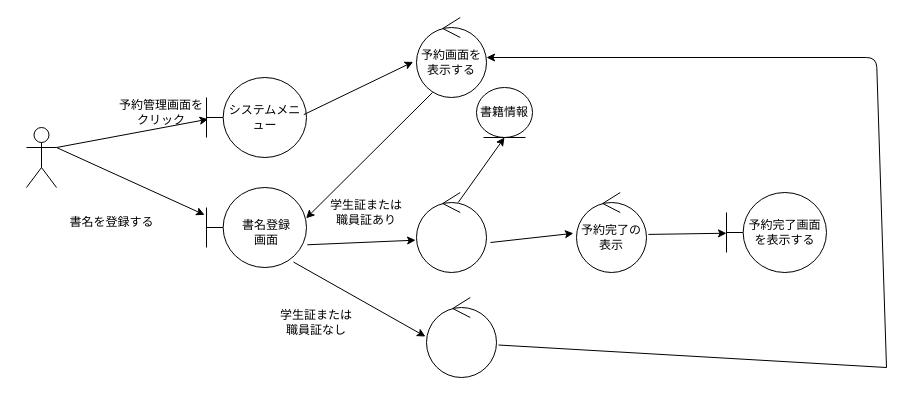
The diagram is 912 pixels wide and 395 high, and some of its shapes have lost their labels. Each missing label, with the centre of its shape:
エラー表示: the point at 461,337
事務職員: the point at 41,157
書籍を登録: the point at 451,232
